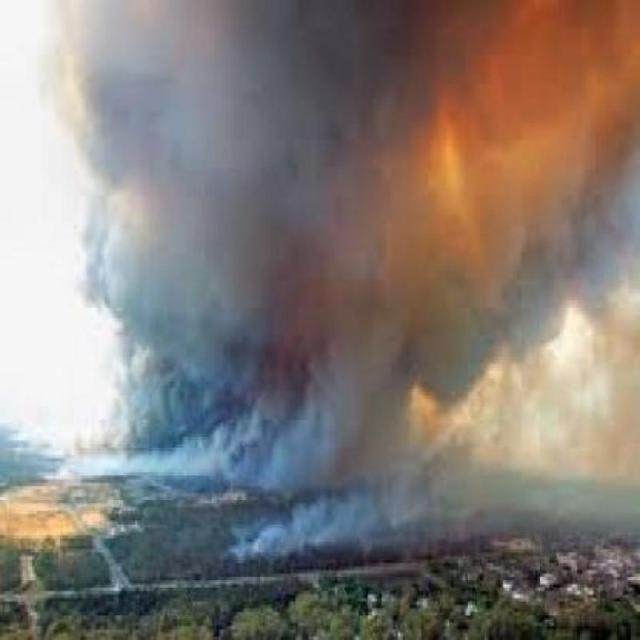Smoke: (115, 270, 443, 532), (455, 323, 640, 484)
